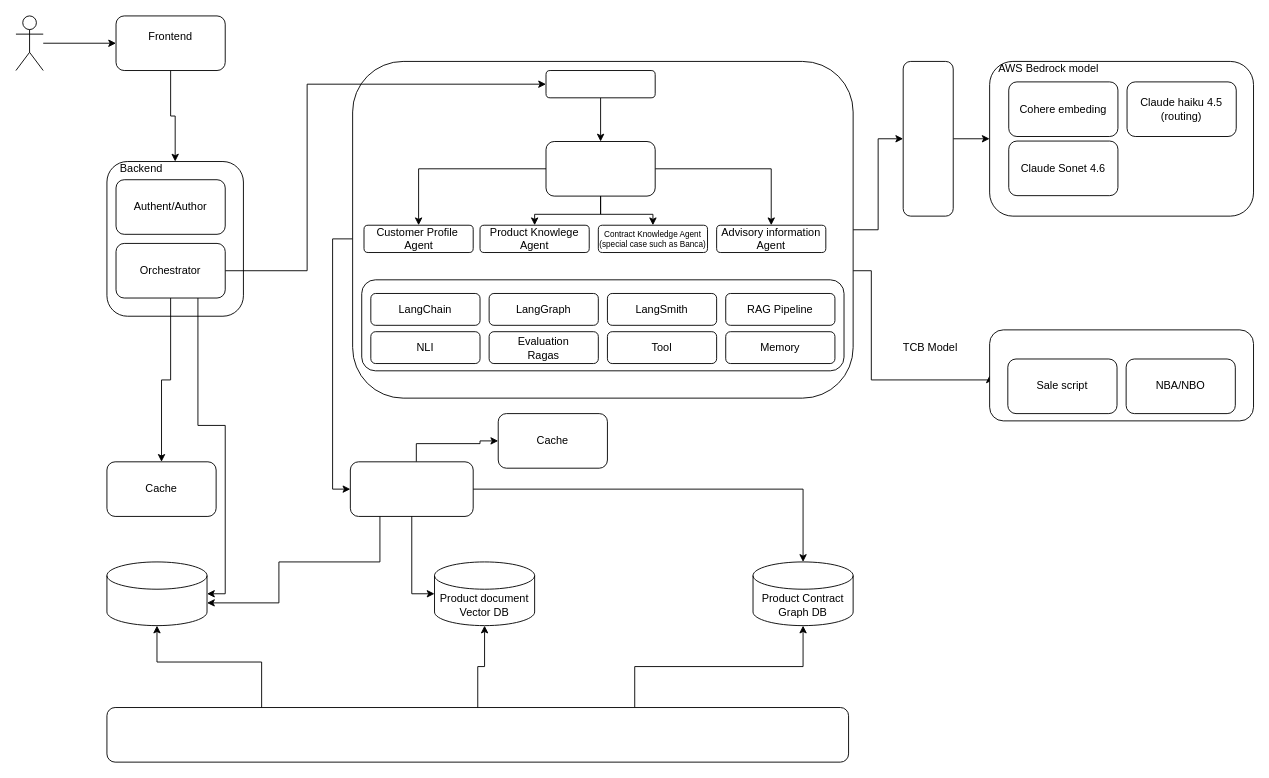
The diagram is 1269 pixels wide and 778 high, and some of its shapes have lost their labels. Here are the shapes that lost their labels. From the top down, the centre of each, then its label:
At point 29,43: "Actor".
At point 600,84: "Intent Clasification Agent".
At point 927,138: "Guardrail (in/out)".
At point 600,168: "Query rewrite".
At point 411,488: "MCP".
At point 156,593: "Customer 360 Data Postgres".
At point 477,734: "Source System (Data Lake)".
